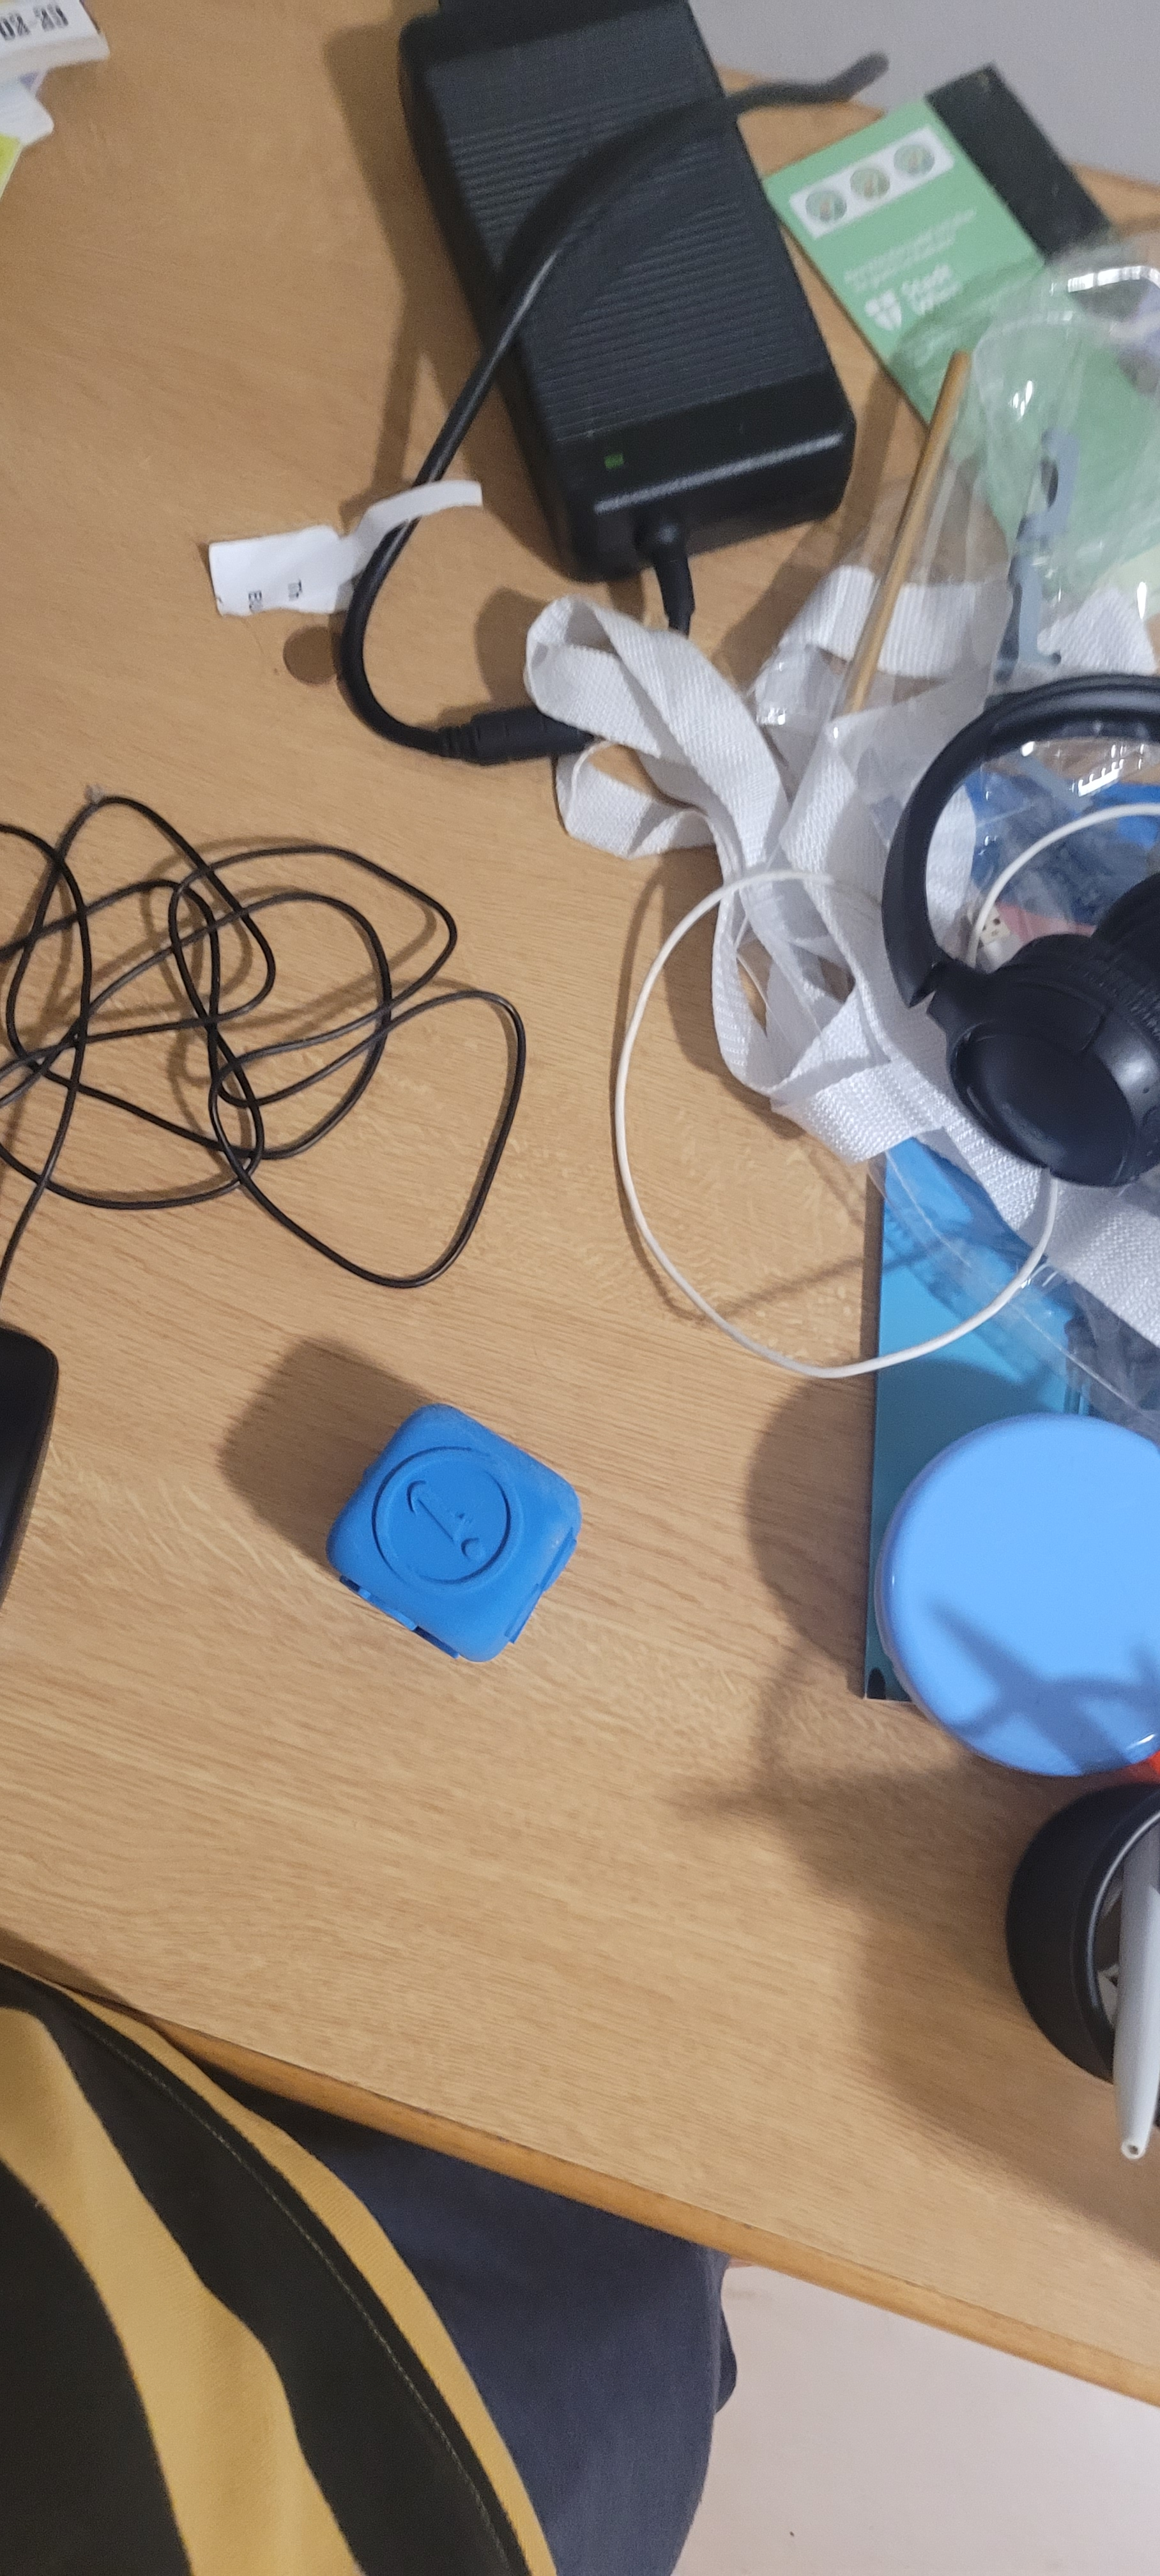Info: (347, 1410, 529, 1630)
